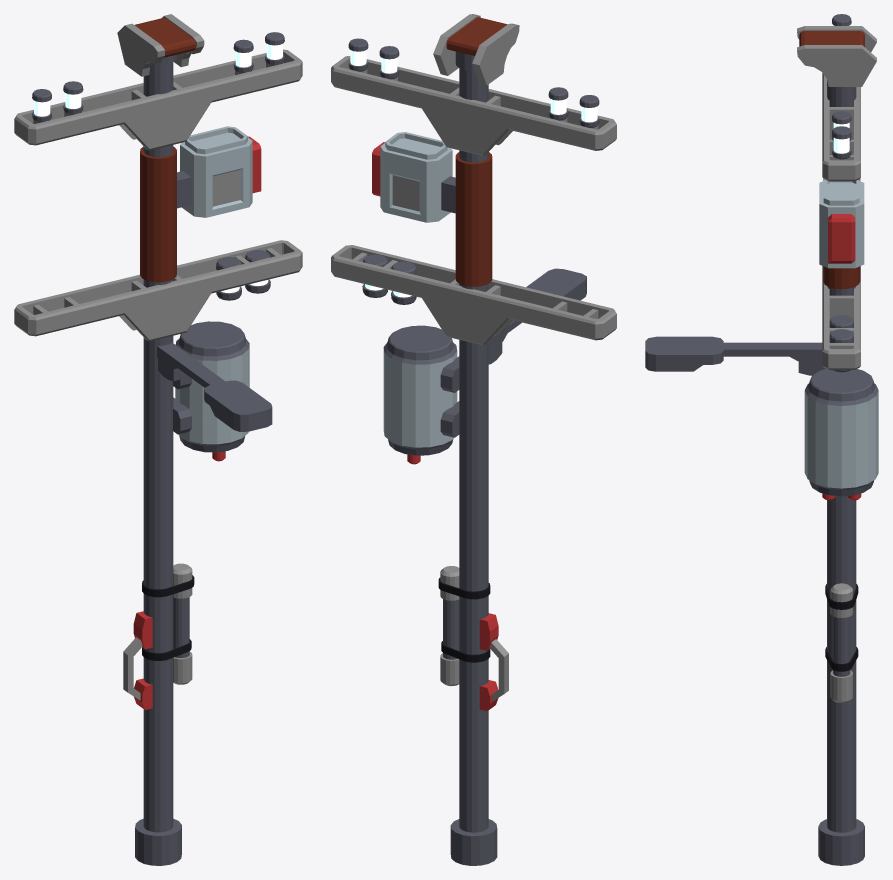
The model's file is elPole_03.glb.
3 renders of one model, left to right at view 1: azimuth 30°, elevation 25°; view 2: azimuth 150°, elevation 25°; view 3: azimuth 270°, elevation 25°, orthographic.
Visible parts, largest first — view 1: geometry_0, geometry_6; view 2: geometry_0, geometry_6; view 3: geometry_0.
Boxes of the visible parts, box(x1,y1,x2,y2) form: geometry_0: box(14, 14, 302, 865); geometry_6: box(34, 44, 282, 292); geometry_0: box(331, 14, 616, 865); geometry_6: box(350, 50, 597, 297); geometry_0: box(645, 14, 878, 865).
Bounding box in the file's own units: 0.877 × 2.53 × 0.6538.
3 materials, 3 textured.
